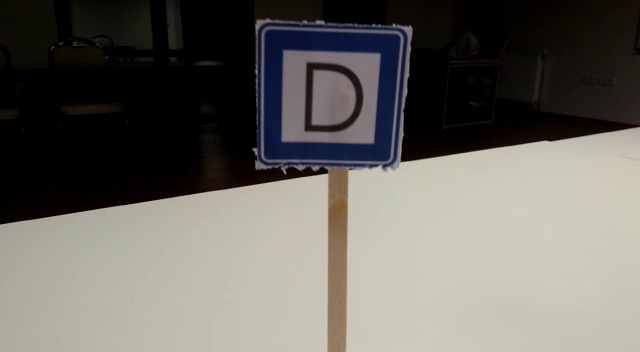durak: (259, 26, 407, 166)
